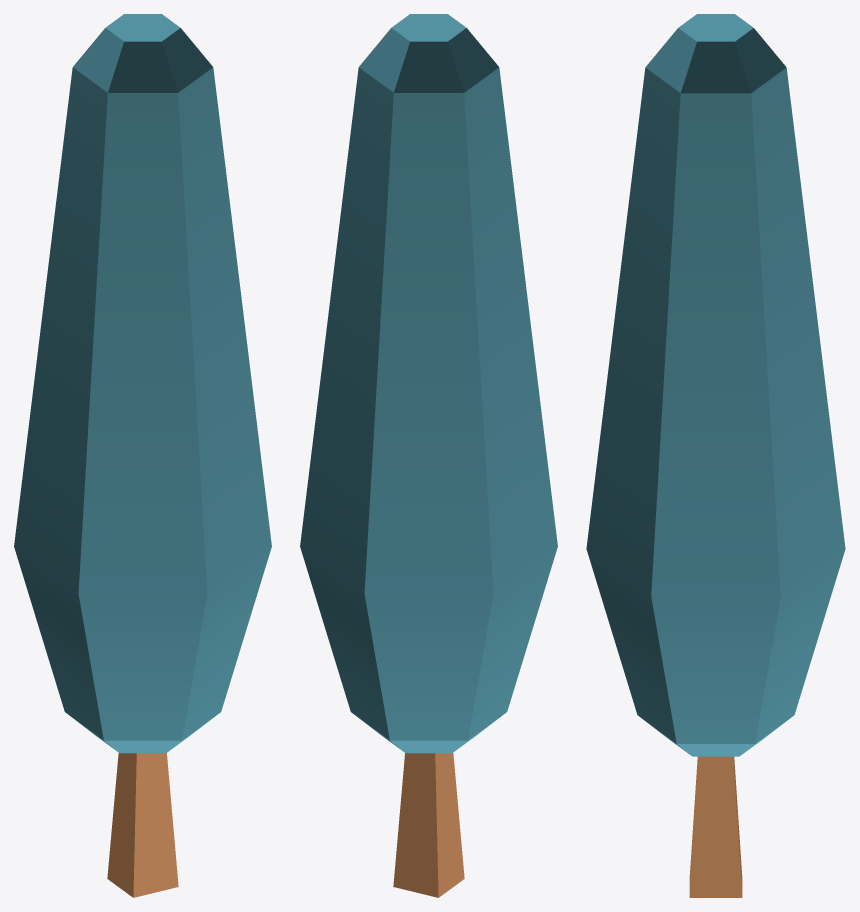
The model's file is tree_tall_dark.obj.
3 views of the same model, side by side, from view 1: azimuth 30°, elevation 25°; view 2: azimuth 150°, elevation 25°; view 3: azimuth 270°, elevation 25° (orthographic).
Visible parts, largest first — view 1: tree_tall_dark; view 2: tree_tall_dark; view 3: tree_tall_dark.
Part boxes in pixels (left/top/right/bottom): tree_tall_dark: left=14, top=14, right=271, bottom=897; tree_tall_dark: left=300, top=14, right=557, bottom=897; tree_tall_dark: left=586, top=14, right=845, bottom=897.
Bounding box in the file's own units: 4 × 16.88 × 4.61.
